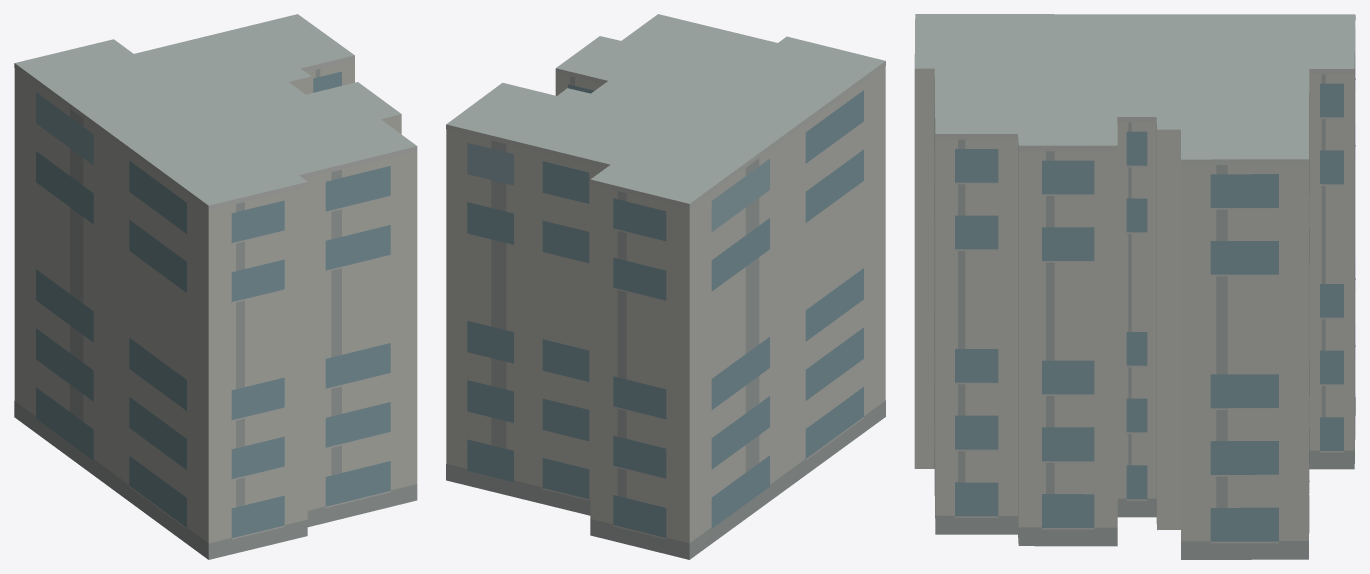
The model's file is survey-upis-32968223.glb.
The picture shows the model from 3 angles, left to right: view 1: azimuth 30°, elevation 25°; view 2: azimuth 150°, elevation 25°; view 3: azimuth 270°, elevation 25°; orthographic projection. The views are drawn at different scales.
Parts seen in each view (by area): view 1: survey-upis-32968223.tmp; view 2: survey-upis-32968223.tmp; view 3: survey-upis-32968223.tmp.
Part boxes in pixels (x1,y1,x2,y2): survey-upis-32968223.tmp: (14, 14, 417, 559); survey-upis-32968223.tmp: (446, 14, 885, 559); survey-upis-32968223.tmp: (914, 14, 1355, 559).
Bounding box in the file's own units: 13.66 × 17.5 × 17.47.
